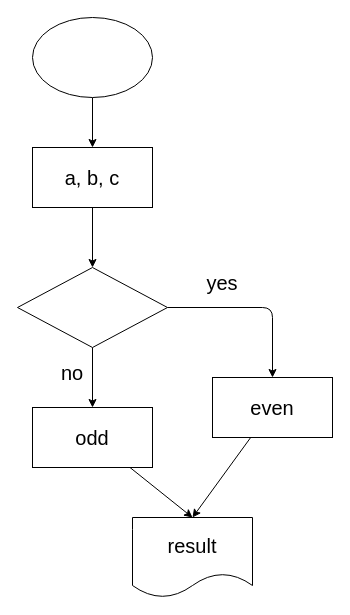
This 350x615 diagram has some shape labels left out. Here are the shapes that lost their labels. From the top down, the centre of each, then its label:
At [92,57]: "start".
At [92,307]: "a % 2 = 0".
